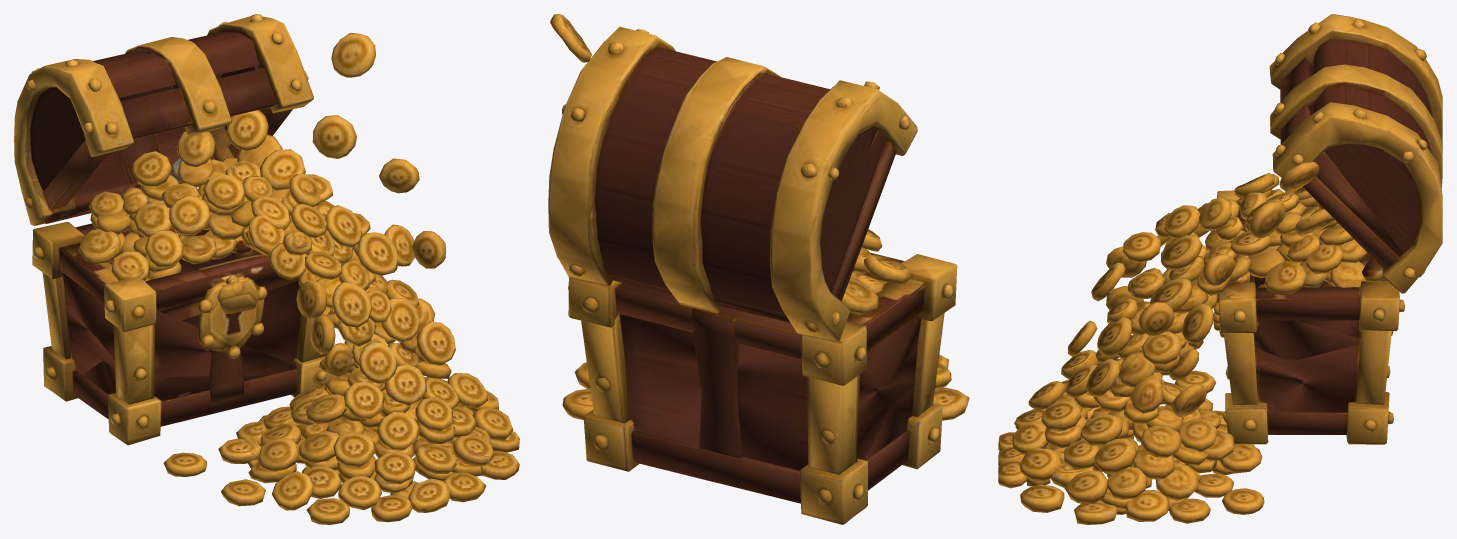
Rendered from gold-treasure.glb.
3 views of the same model, side by side, from view 1: azimuth 30°, elevation 25°; view 2: azimuth 150°, elevation 25°; view 3: azimuth 270°, elevation 25° (orthographic). The views are drawn at different scales.
Parts seen in each view (by area): view 1: mesh_node; view 2: mesh_node; view 3: mesh_node.
Part boxes in pixels (x1,y1,x2,y2): mesh_node: [14, 14, 519, 524]; mesh_node: [548, 14, 969, 524]; mesh_node: [998, 14, 1442, 524].
Size of the model in its own units: 0.8672 by 0.8945 by 1.
1 material, 1 textured.
